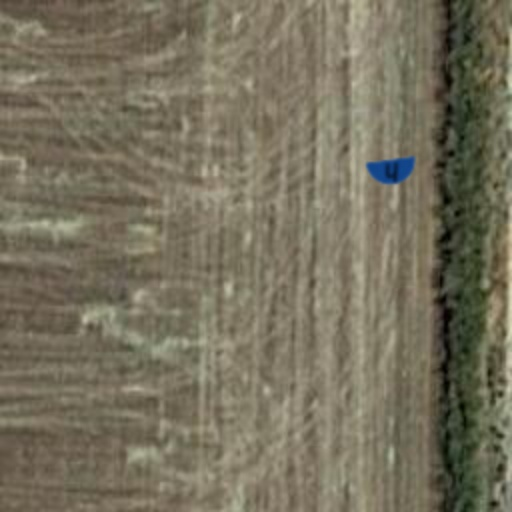semicircle: (362, 142, 422, 202)
